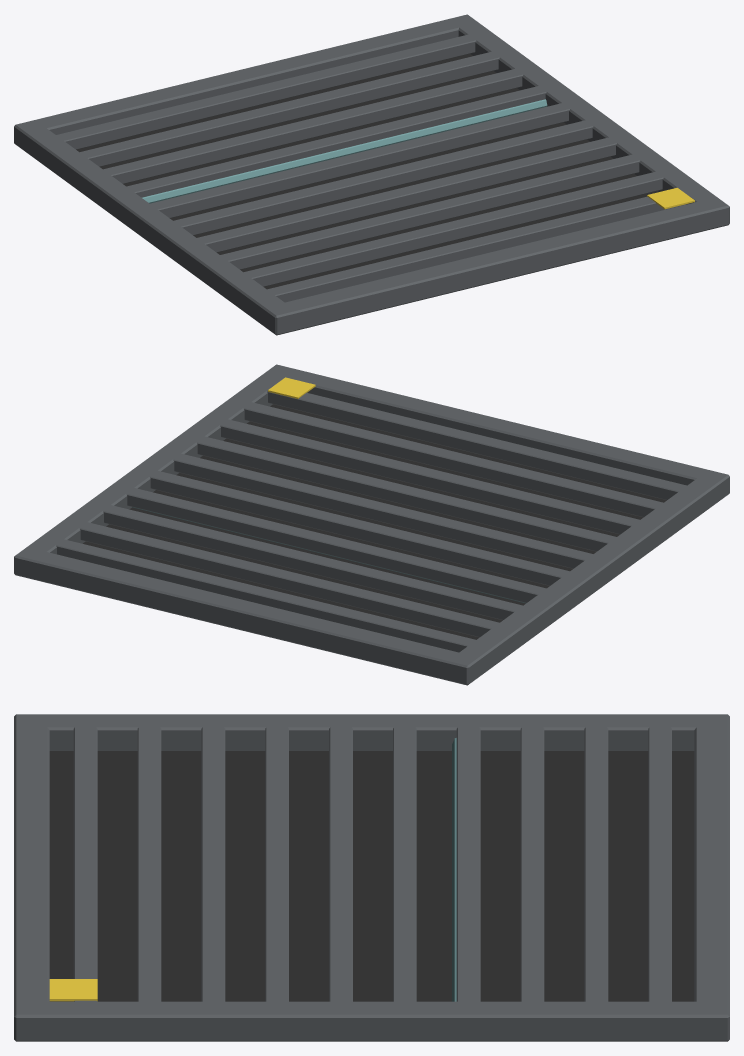
File: floor_grate.glb
3 renders of one model, top to bottom at view 1: azimuth 30°, elevation 25°; view 2: azimuth 150°, elevation 25°; view 3: azimuth 270°, elevation 25°, orthographic. The views are drawn at different scales.
Visible parts, largest first — view 1: floor_grate; view 2: floor_grate; view 3: floor_grate.
Boxes of the visible parts, box(x1,y1,x2,y2) form: floor_grate: box(14, 14, 729, 335); floor_grate: box(14, 364, 729, 685); floor_grate: box(14, 714, 729, 1041).
Size of the model in its own units: 1.2 by 0.053 by 1.2.
